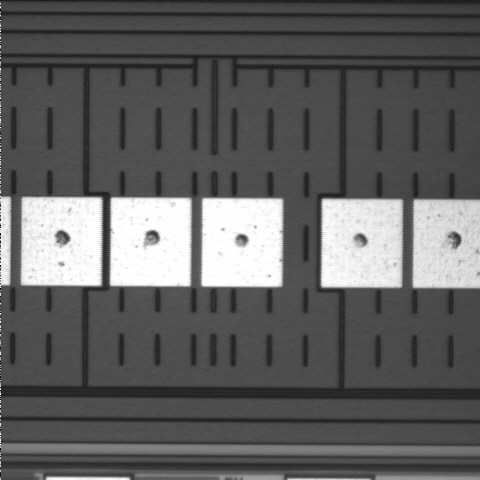pad: (201, 198, 283, 287), (21, 197, 102, 286), (110, 197, 191, 286), (321, 199, 402, 288)
